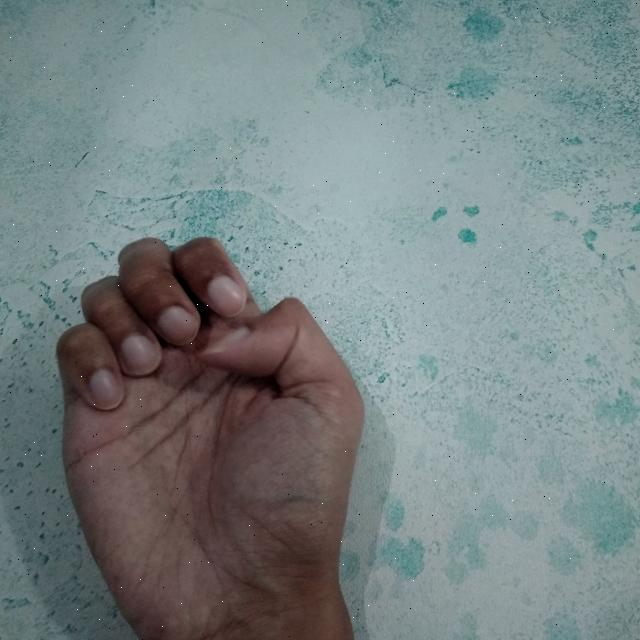E: (55, 234, 375, 640)
